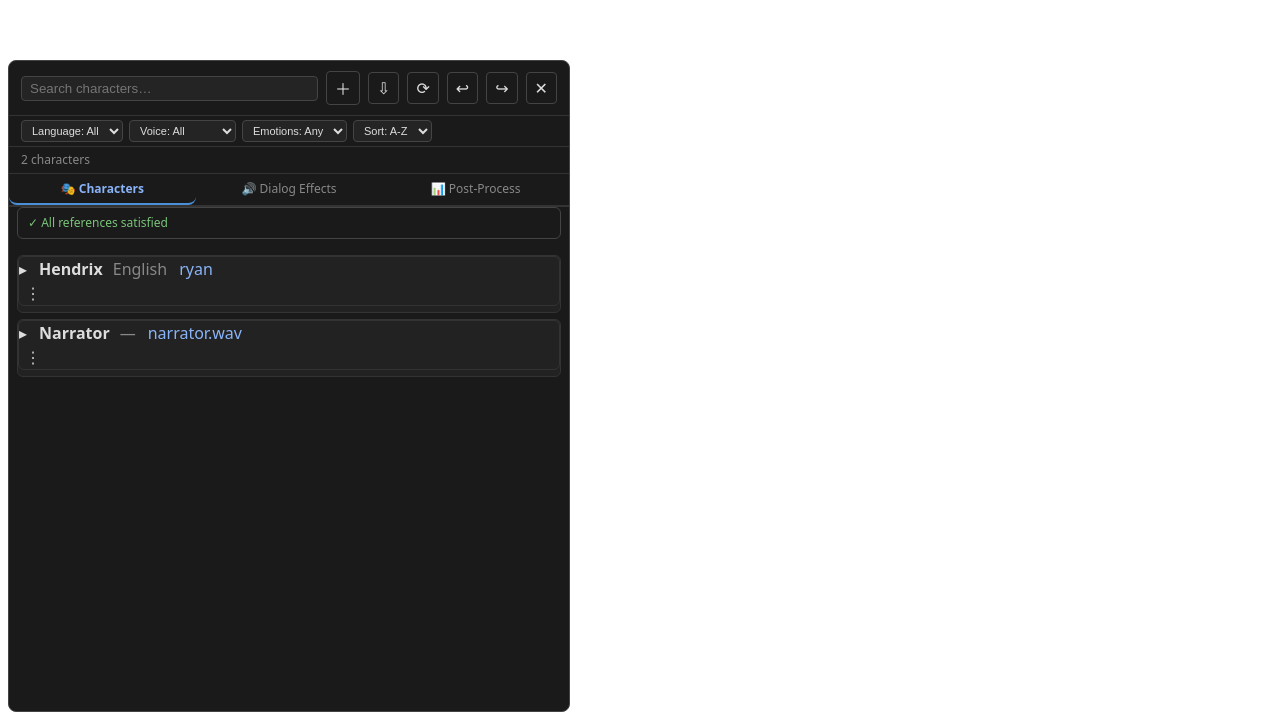
it: CharacterVoiceDialog › switches to Dialog Effects tab on click
This screenshot has width=1280, height=720.
expect the text "2 characters" is shown: met, box [21, 151, 90, 168]
Click the tab with test id "tab-dialog-effects" at coordinates (289, 190), box [196, 174, 382, 205]
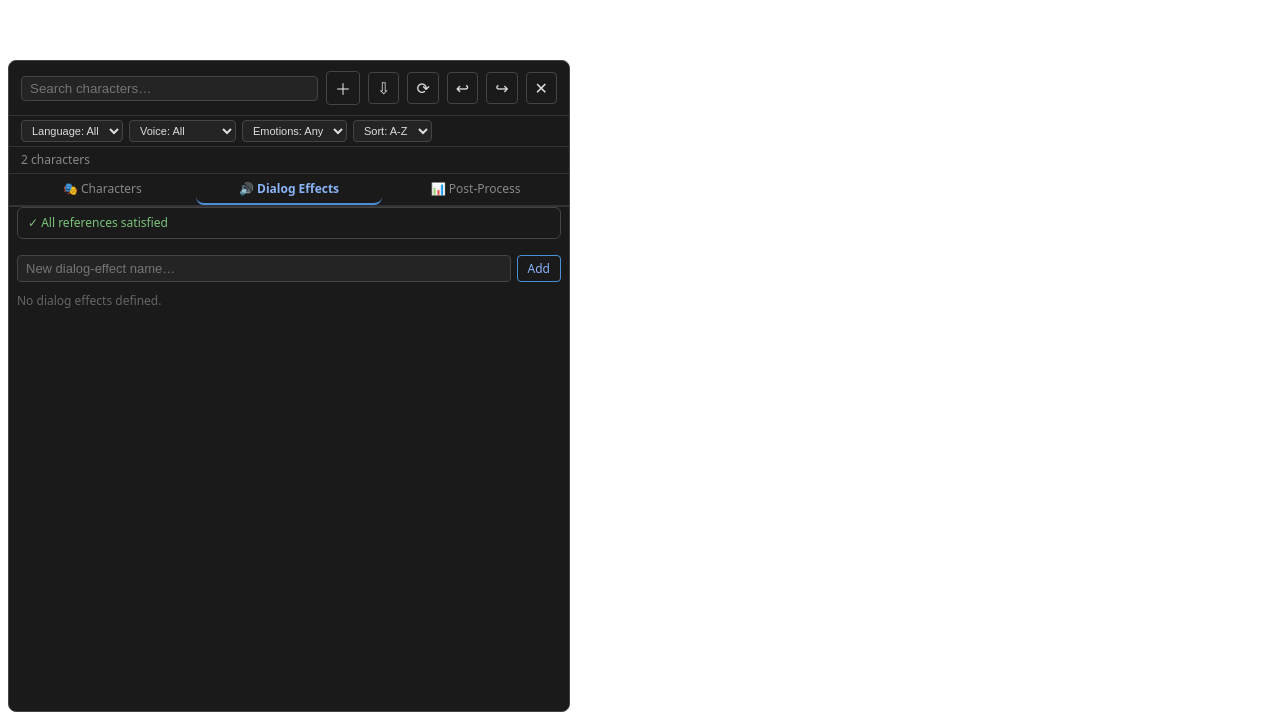
expect the element with test id "dialog-effects-tab" is shown: met, box [9, 247, 569, 318]
